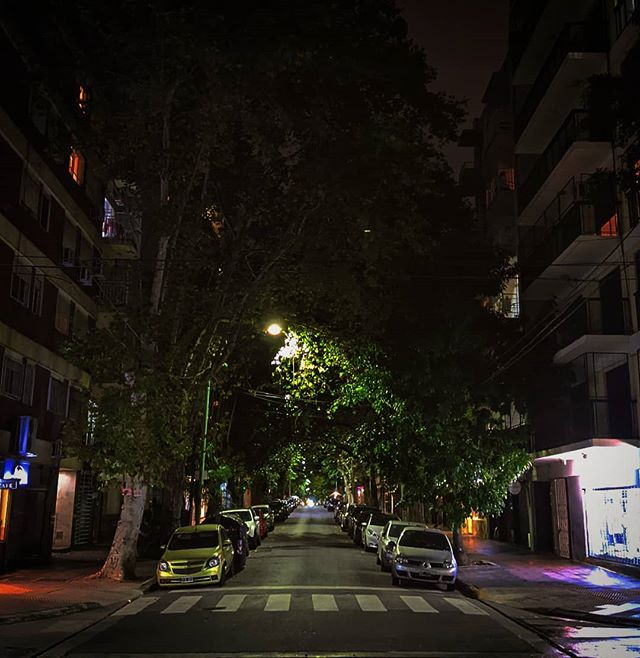building: (494, 1, 640, 558), (1, 1, 130, 560)
car: (159, 520, 241, 585), (390, 525, 466, 586)
crosswalk: (97, 585, 501, 629)
street: (49, 513, 565, 658)
